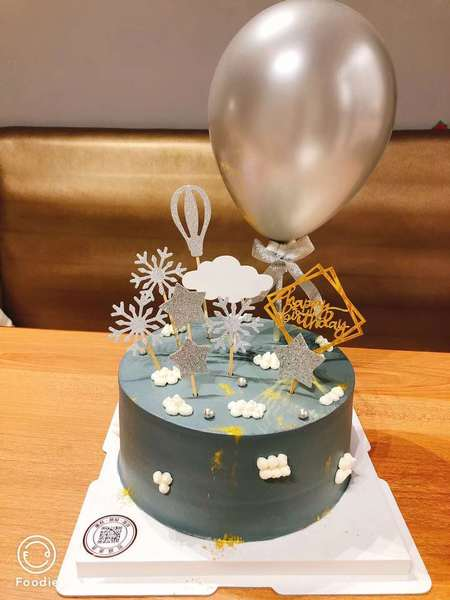balloon: (204, 1, 396, 240)
